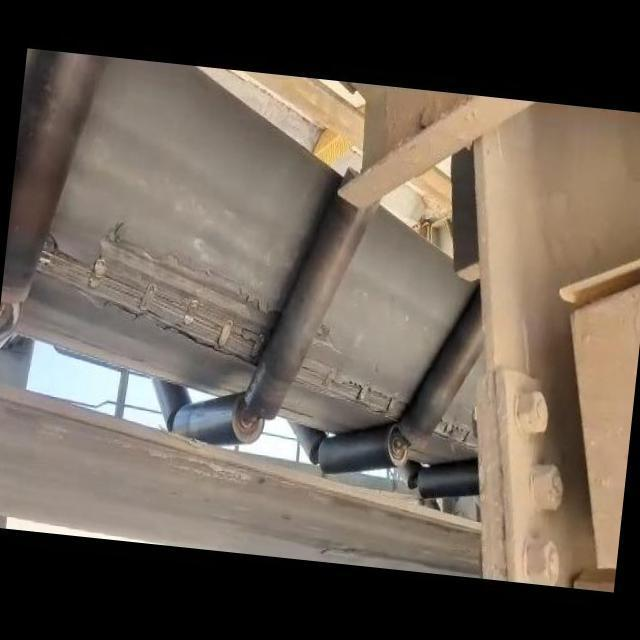Tear: (28, 220, 280, 371), (298, 354, 411, 426)
Wear: (305, 318, 343, 359)
